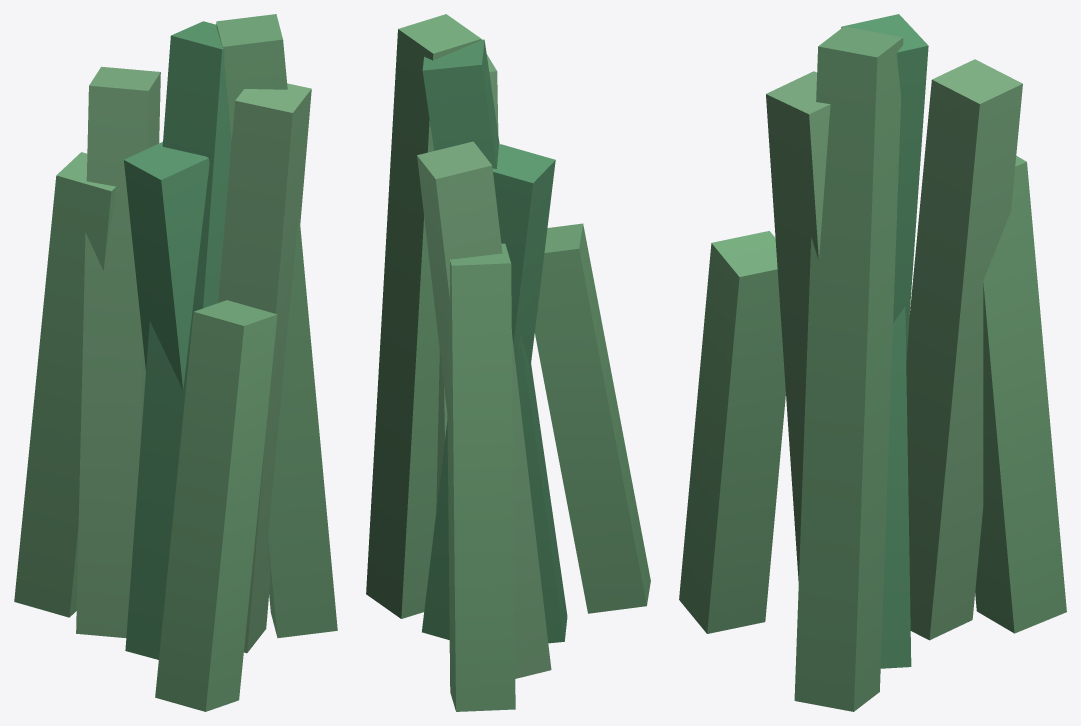
The model's file is grass-tuft-tall.glb.
3 views of the same model, side by side, from view 1: azimuth 30°, elevation 25°; view 2: azimuth 150°, elevation 25°; view 3: azimuth 270°, elevation 25° (orthographic). The views are drawn at different scales.
Parts seen in each view (by area): view 1: grass-tuft-tall_body; view 2: grass-tuft-tall_body; view 3: grass-tuft-tall_body.
Part boxes in pixels (x1=…): grass-tuft-tall_body: x1=14, y1=14, x2=337, y2=711; grass-tuft-tall_body: x1=366, y1=14, x2=650, y2=711; grass-tuft-tall_body: x1=679, y1=14, x2=1066, y2=711.
Size of the model in its own units: 0.2669 by 0.6516 by 0.3593.
